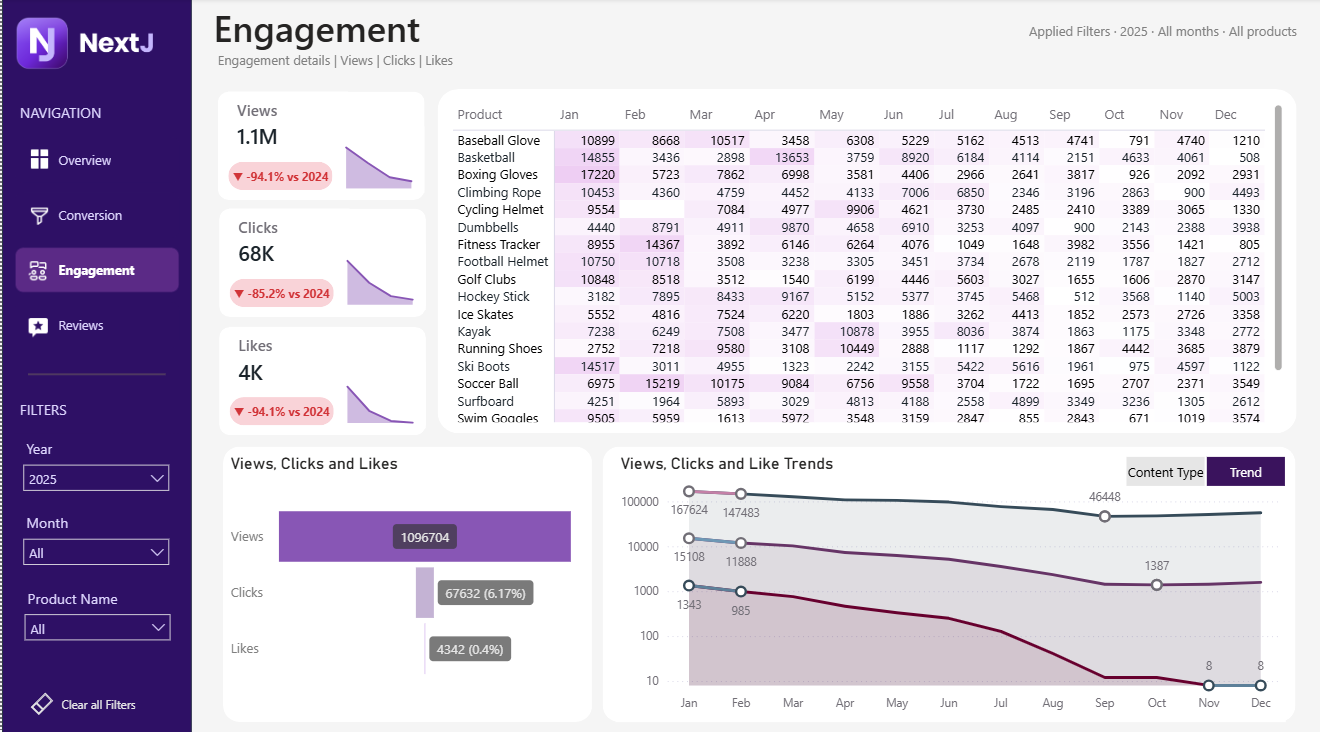

What the dashboard file says about the page in this screenshot:
{"tool":"powerbi","page":{"name":"Social Media Details","canvas":[1400,820],"ordinal":2},"visuals":[{"type":"textbox","box":[0,0,1400.3,77.2],"z":0},{"type":"slicer","fields":{"Values":["dim_product.ProductName"]},"box":[0,77.2,197.4,742.4],"z":1000},{"type":"advancedSlicerVisual","fields":{"Values":["Date.Year"]},"box":[316.1,0,237.4,77.2],"z":2000},{"type":"advancedSlicerVisual","fields":{"Values":["Date.MonthNameShort"]},"box":[583.6,0,816.7,77.2],"z":3000},{"type":"advanceCardE03760C5AB684758B56AA29F9E6C257B","fields":{"mainMeasure":["_mesures.Views"]},"box":[214.3,95.7,162.9,80],"z":4000},{"type":"advanceCardE03760C5AB684758B56AA29F9E6C257B","fields":{"mainMeasure":["_mesures.Clicks"]},"box":[214.3,191.4,162.9,77.1],"z":5000},{"type":"advanceCardE03760C5AB684758B56AA29F9E6C257B","fields":{"mainMeasure":["_mesures.Likes"]},"box":[214.3,282.9,162.9,75.7],"z":6000},{"type":"lineChart","title":"Monthly Views, Clicks and Likes ","fields":{"Category":["Date.MonthNameShort"],"Y2":["_mesures.Views","_mesures.Clicks","_mesures.Likes"]},"box":[673.7,95.8,346.1,266],"z":7000},{"type":"clusteredColumnChart","title":"Monthly Views by Content Type","fields":{"Category":["Date.MonthNameShort"],"Series":["fact_engagement_data.ContentType"],"Y":["_mesures.Views"]},"box":[1034.3,95.7,365.7,262.9],"z":8000},{"type":"pivotTable","fields":{"Rows":["dim_product.ProductName"],"Columns":["Date.MonthNameShort"],"Values":["_mesures.Views"]},"box":[216,373.3,1184.3,446.3],"z":9000},{"type":"funnel","title":"Views, Clicks and Likes","fields":{"Y":["_mesures.Views","_mesures.Clicks","_mesures.Likes"]},"box":[390.5,95.8,268.9,263.2],"z":10000}]}

Visuals, with their boxes on the page's 1400x820 design canvas (x1, y1, x2, y2). These are canvas units, not pixel positions in the 1320x732 screenshot, which may show the page scaled, cropped or inside an application window:
textbox: 0:0:1400:77
slicer - dim_product.ProductName: 0:77:197:820
advancedSlicerVisual - Date.Year: 316:0:554:77
advancedSlicerVisual - Date.MonthNameShort: 584:0:1400:77
advanceCardE03760C5AB684758B56AA29F9E6C257B - _mesures.Views: 214:96:377:176
advanceCardE03760C5AB684758B56AA29F9E6C257B - _mesures.Clicks: 214:191:377:268
advanceCardE03760C5AB684758B56AA29F9E6C257B - _mesures.Likes: 214:283:377:359
"Monthly Views, Clicks and Likes " lineChart: 674:96:1020:362
"Monthly Views by Content Type" clusteredColumnChart: 1034:96:1400:359
pivotTable - dim_product.ProductName x Date.MonthNameShort: 216:373:1400:820
"Views, Clicks and Likes" funnel: 390:96:659:359
